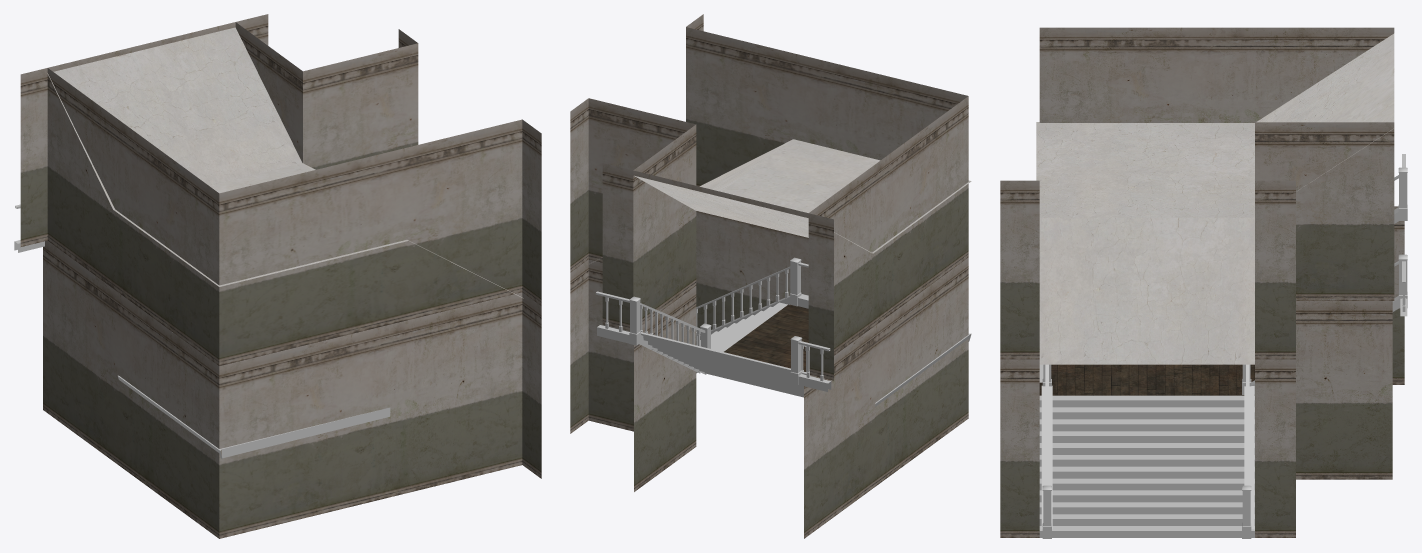
File: stairway_6m_x_6m.fbx
3 renders of one model, left to right at view 1: azimuth 30°, elevation 25°; view 2: azimuth 150°, elevation 25°; view 3: azimuth 270°, elevation 25°, orthographic. The views are drawn at different scales.
Visible parts, largest first — view 1: stairway_6m_x_6m; view 2: stairway_6m_x_6m; view 3: stairway_6m_x_6m.
Boxes of the visible parts, x1,y1,x2,y2 form: stairway_6m_x_6m: (14, 14, 541, 538); stairway_6m_x_6m: (570, 14, 971, 538); stairway_6m_x_6m: (1000, 27, 1407, 538).
Size of the model in its own units: 806 by 801 by 827.
